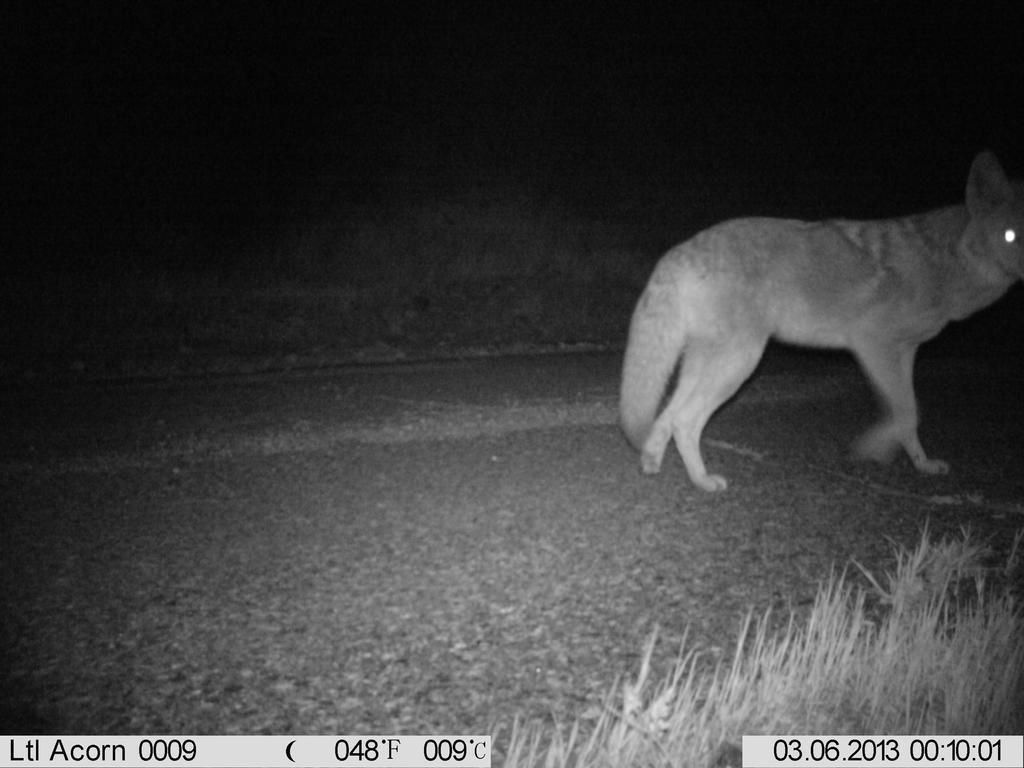coyote: (597, 146, 1023, 500)
